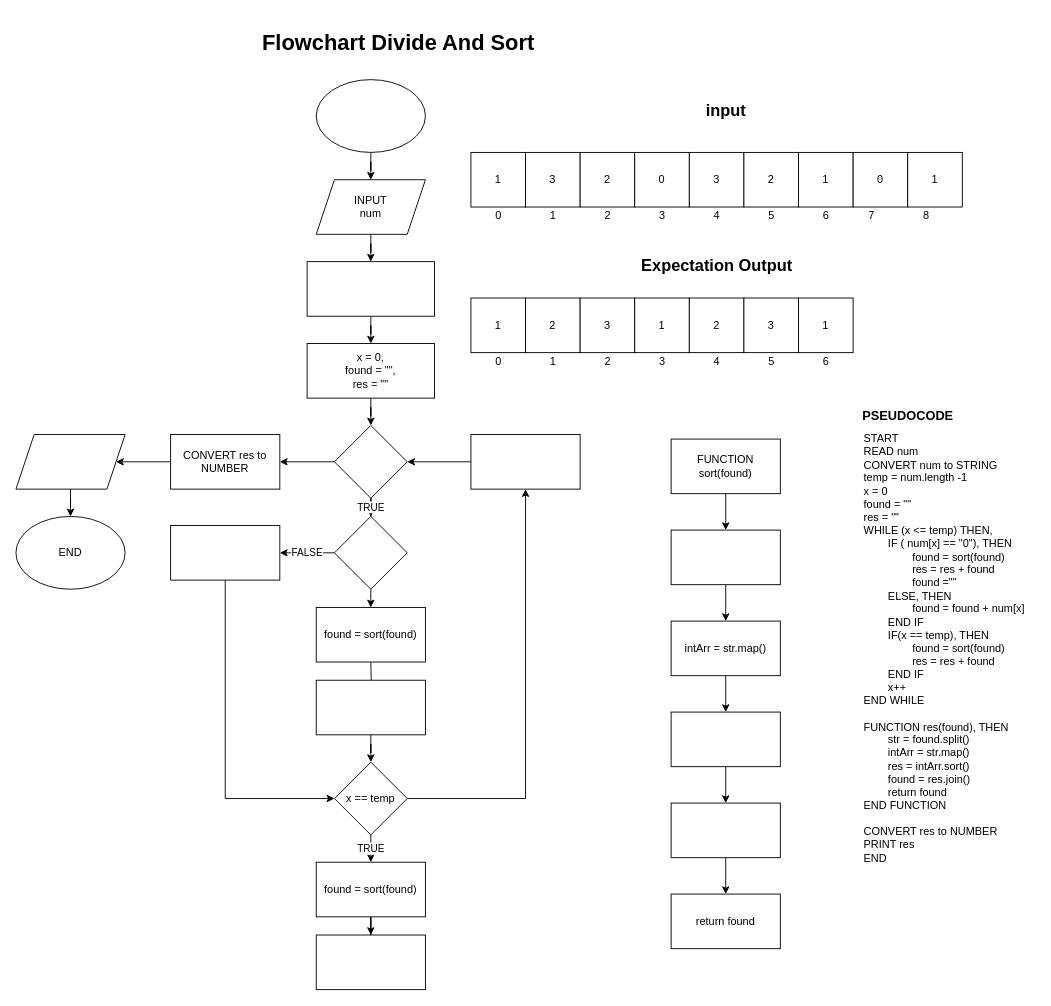
The diagram is 1051 pixels wide and 1006 high, and some of its shapes have lost their labels. The shapes that lost their labels are listed below. From the top down, each one's centre as x and y in pixels, then its label:
the point at 370,115: START
the point at 370,288: num To SRING, temp = num.length - 1,
the point at 70,461: OUTPUT res
the point at 370,461: x <= temp
the point at 525,461: x++
the point at 225,552: found = found + num[x]
the point at 370,552: num[x] == "0"
the point at 725,557: str = found.split()
the point at 370,707: res = res + found found =""
the point at 725,739: res = intArr.sort()
the point at 725,830: found = res.join("")
the point at 370,962: res = res + found
